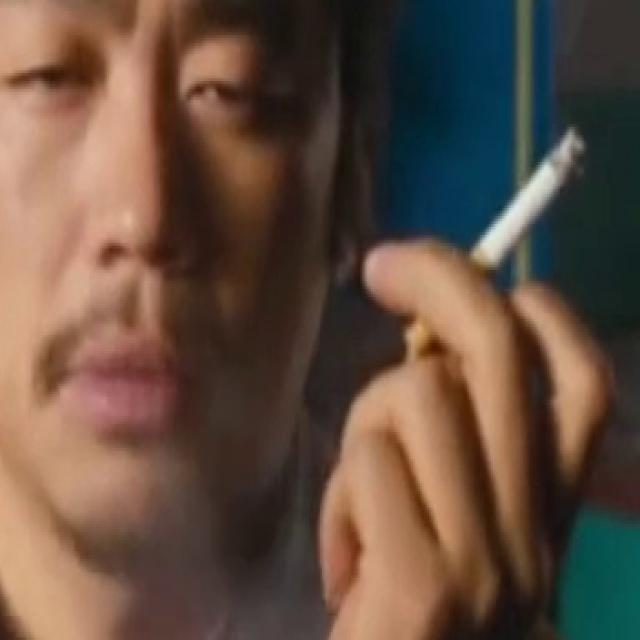smoking: (406, 128, 588, 351)
